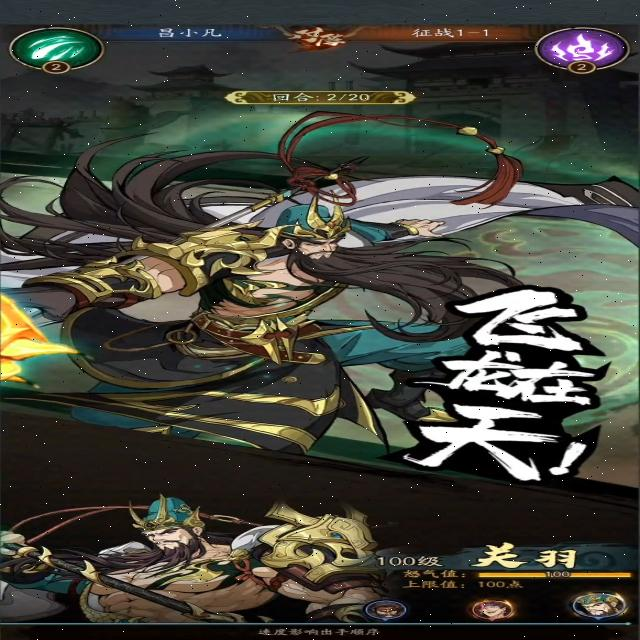hint-guide: (250, 624, 402, 640)
